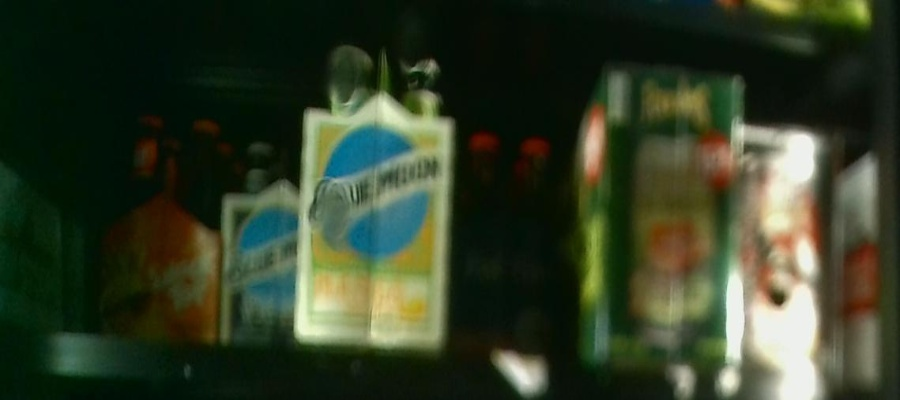bottle: (575, 65, 744, 371), (292, 41, 456, 350), (107, 105, 217, 343), (743, 124, 845, 379), (457, 129, 567, 346), (220, 138, 300, 346)
